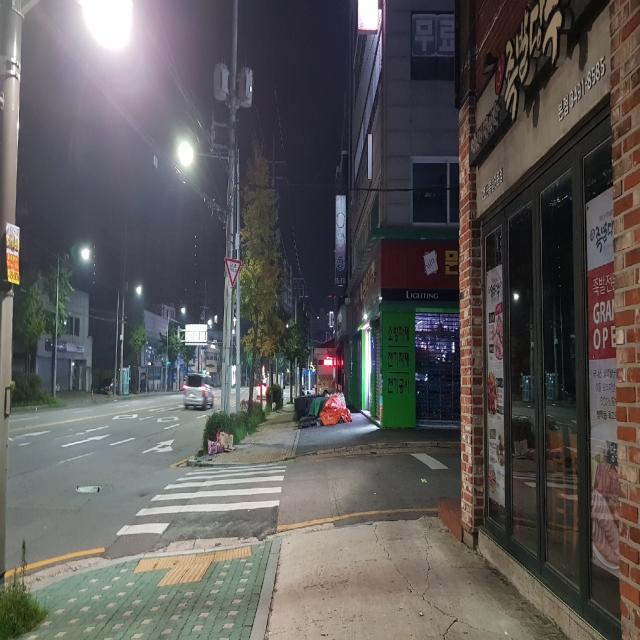횡단보도: (114, 461, 288, 537)
